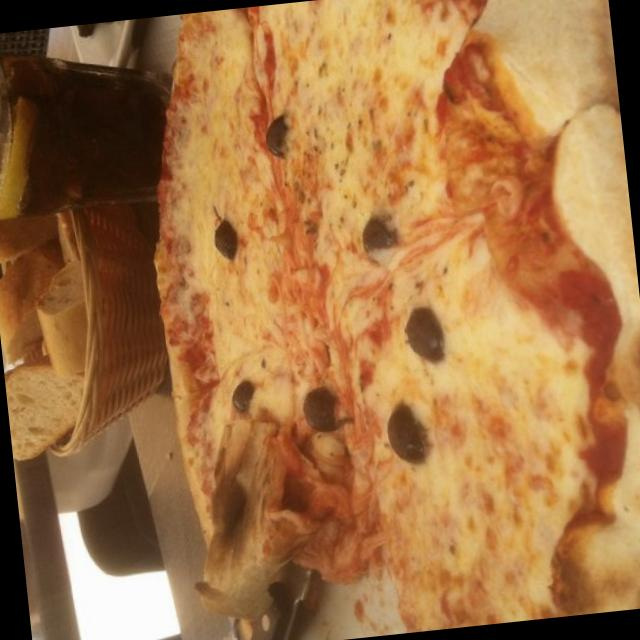Olive: (382, 397, 436, 469), (298, 378, 356, 436), (403, 301, 448, 369), (223, 372, 267, 422), (358, 208, 402, 256), (258, 108, 295, 164), (207, 213, 240, 263)
pizza: (155, 0, 640, 632)
